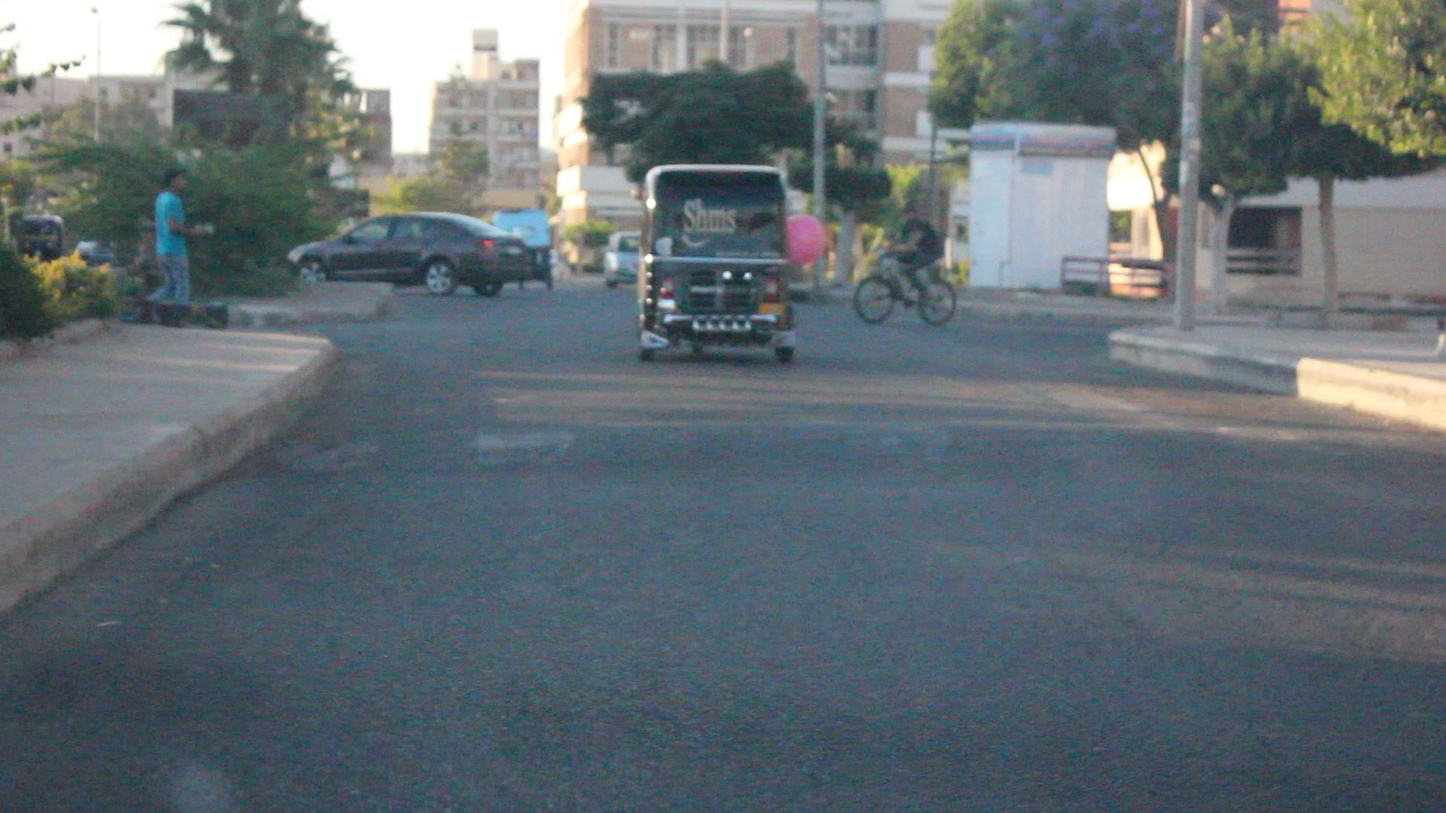Bump: (230, 419, 1445, 471)
